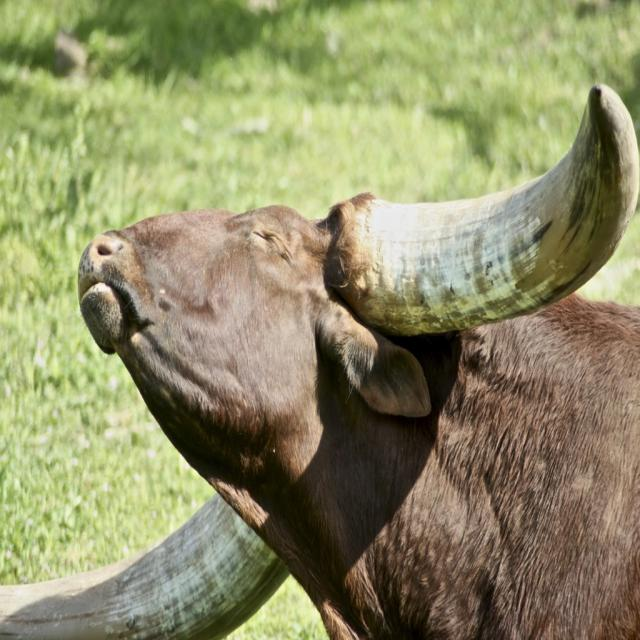Cattle: (0, 83, 640, 639)
